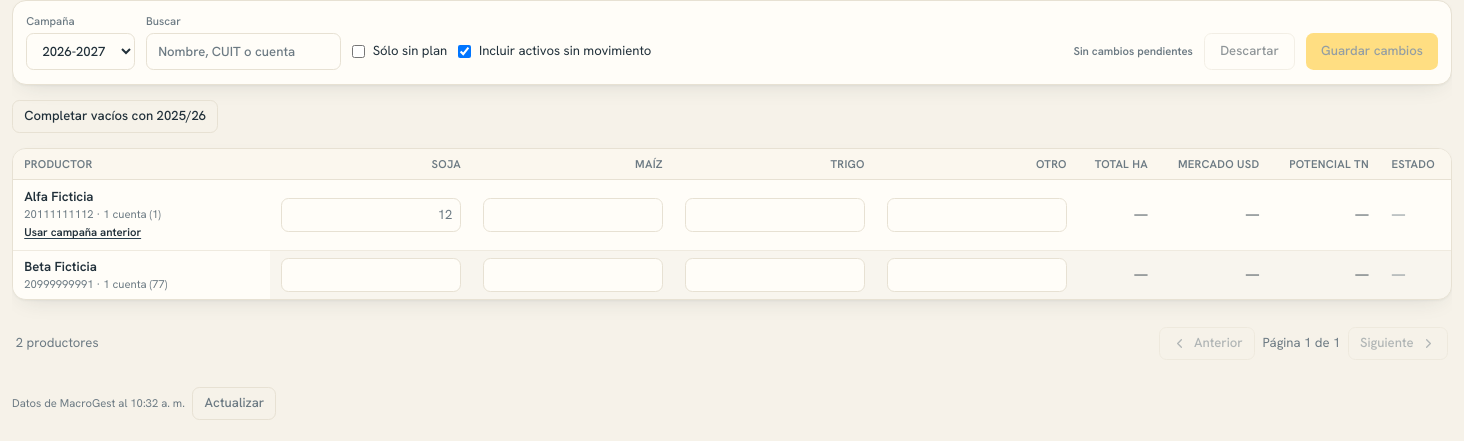
plan de siembra › si guardó pero falló la recarga lo informa y bloquea edición hasta reintentar
Step 1. Type "3" into the field named "Hectáreas de soja de Alfa Ficticia" → [371, 215], box [281,198,461,232]
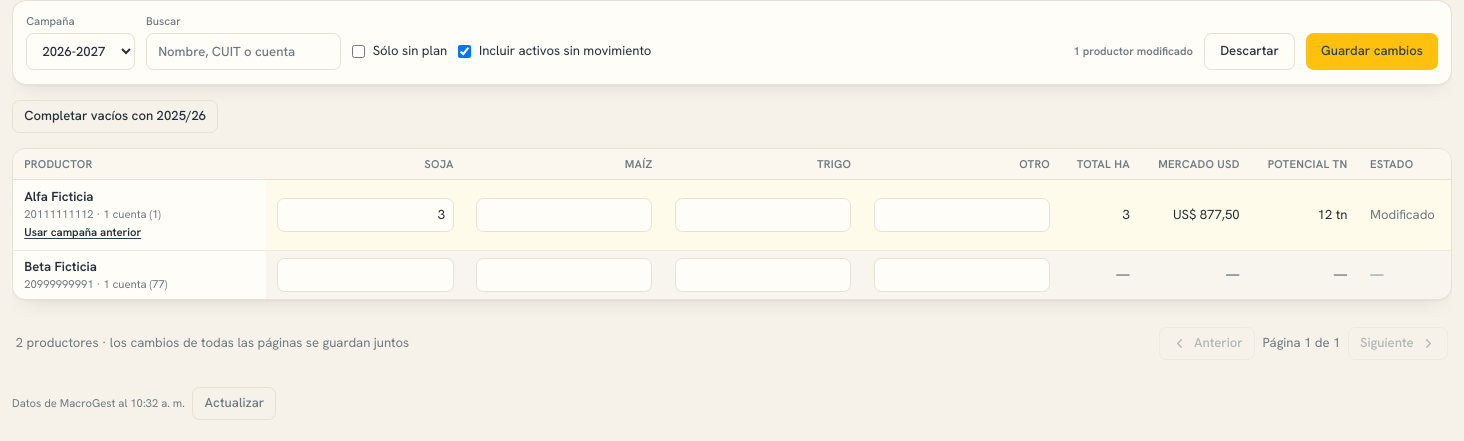
Step 2. Click the button "Guardar cambios" → [1372, 52], box [1306,33,1438,70]
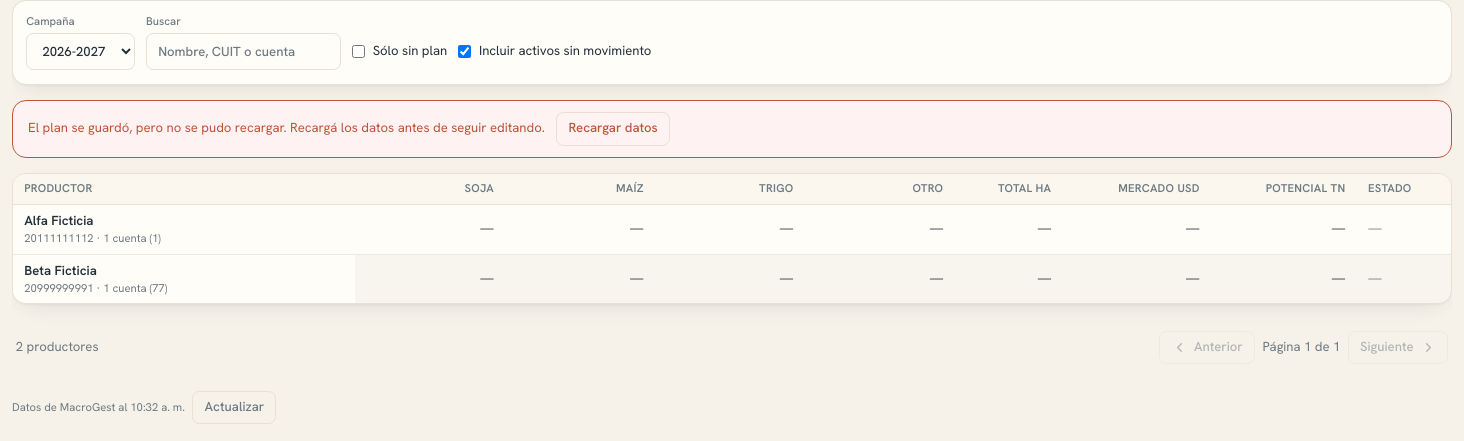
Expected: the text "El plan se guardó, pero no se pudo recargar" is shown, [28,119,545,136]
Step 3. Click the button "Recargar datos" → [613, 129], box [556,112,670,146]
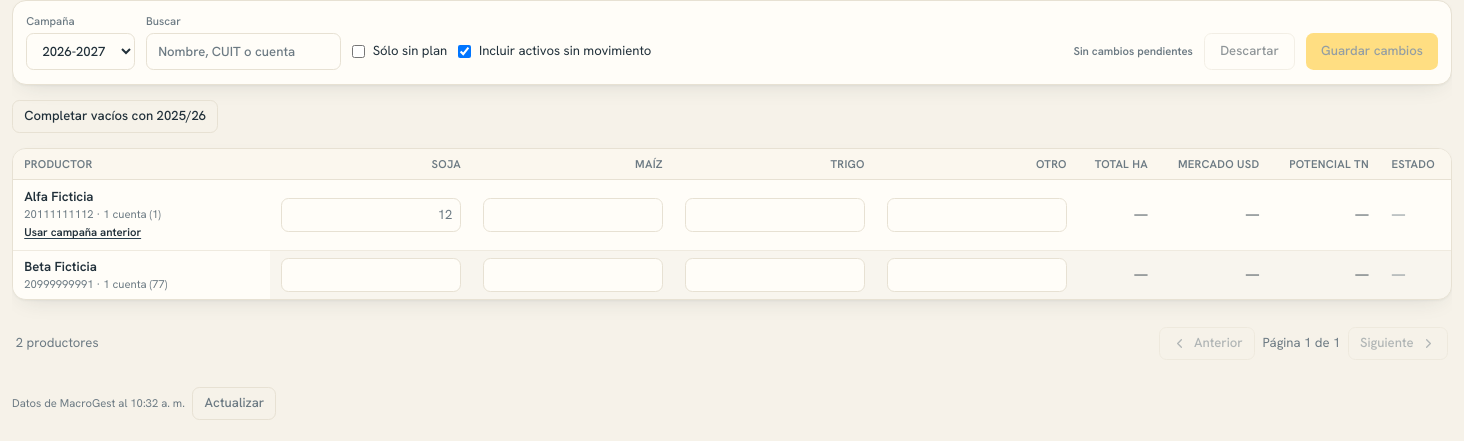
Expected: the field named "Hectáreas de soja de Alfa Ficticia" is shown, [281,198,461,232]
